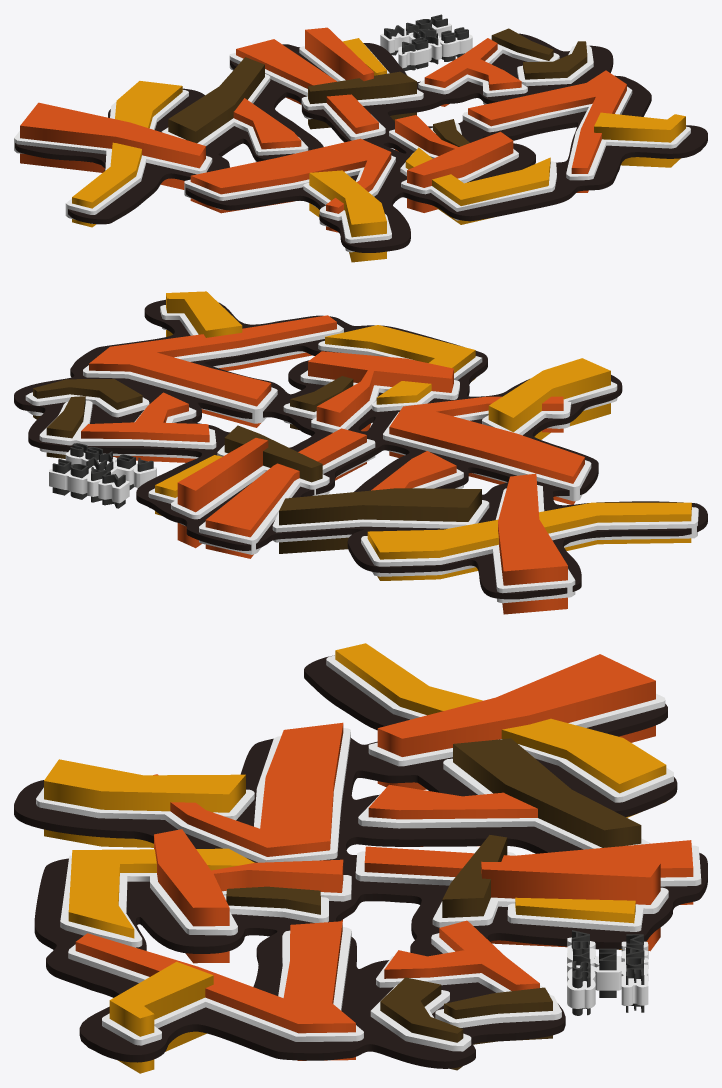
File: MadeInAbyss.fbx
3 views of the same model, one above another, from view 1: azimuth 30°, elevation 25°; view 2: azimuth 150°, elevation 25°; view 3: azimuth 270°, elevation 25° (orthographic). The views are drawn at different scales.
Parts seen in each view (by area): view 1: Shadow, メ1, アB, ス1, ビ1, メ2, イ1, ド1, ア2, ビ3, ス2, メB (+16 smaller); view 2: Shadow, ス1, アB, メ2, イ1, メ1, ビ1, メB, ド1, ア2, ビ3, スB (+16 smaller); view 3: Shadow, メ1, アB, ス1, メ2, ビ1, ア2, イ1, ド3, ド1, ビ3, ア1 (+16 smaller).
Boxes of the visible parts, x1,y1,x2,y2 form: Shadow: (15,33,707,252); メ1: (20,102,205,189); アB: (190,138,391,232); ス1: (468,70,626,192); ビ1: (395,115,513,212); メ2: (72,81,182,227); イ1: (168,57,264,143); ド1: (236,39,378,133); ア2: (309,170,386,262); ビ3: (405,147,550,224); ス2: (594,112,685,167); メB: (14,90,212,223); Shadow: (14,299,707,599); ス1: (89,315,336,427); アB: (389,396,584,504); メ2: (367,502,691,580); イ1: (279,488,481,553); メ1: (498,473,567,614); ビ1: (308,351,453,431); メB: (361,485,698,603); ド1: (205,428,366,558); ア2: (488,358,610,439); ビ3: (325,325,475,404); スB: (83,305,343,423); Shadow: (14,655,707,1068); メ1: (377,654,655,789); アB: (153,722,343,856); ス1: (75,921,355,1060); メ2: (335,643,666,817); ビ1: (154,829,343,963); ア2: (44,759,245,847); イ1: (453,738,641,853); ド3: (481,861,660,951); ド1: (364,840,693,904); ビ3: (68,848,254,938); ア1: (36,728,350,862).
Size of the model in its own units: 40 by 474 by 341.
